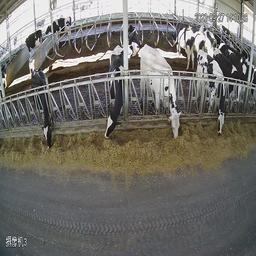cow: (140, 42, 180, 141), (197, 48, 227, 136), (104, 44, 123, 147), (30, 70, 53, 149), (213, 47, 241, 106), (168, 23, 194, 70), (45, 18, 72, 41), (25, 28, 42, 55), (128, 24, 140, 58), (219, 23, 236, 47)
